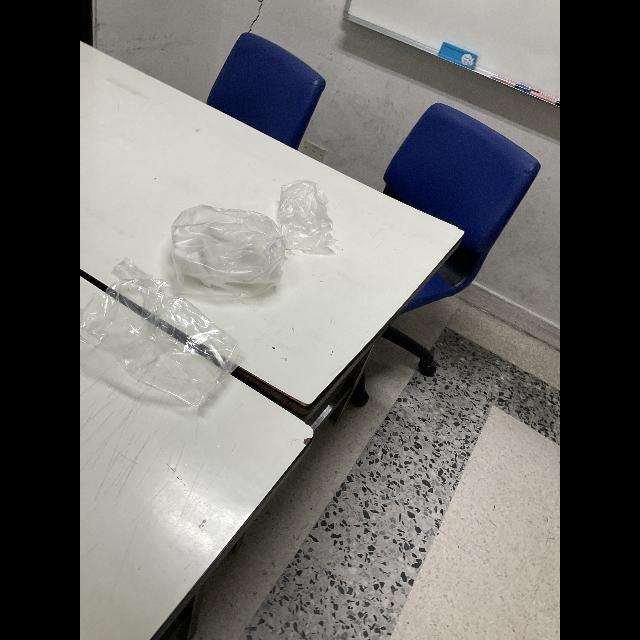plastic_bag: (80, 258, 252, 424), (167, 198, 286, 296), (261, 170, 337, 248)
